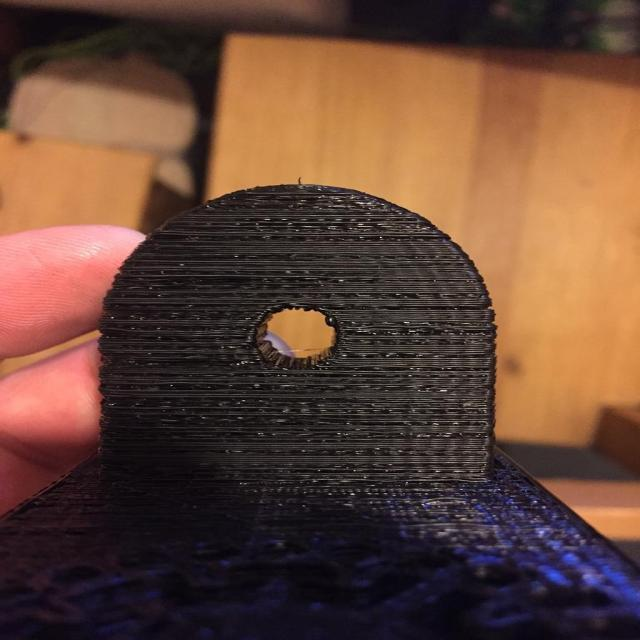spaghetti: (88, 220, 489, 410)
